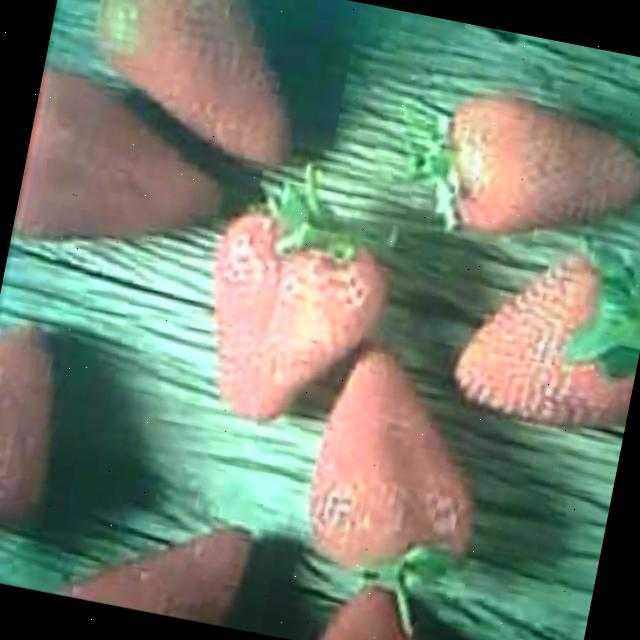strawberry: (185, 200, 396, 442), (299, 343, 498, 584), (82, 0, 319, 167), (448, 244, 640, 439), (434, 90, 640, 262)
